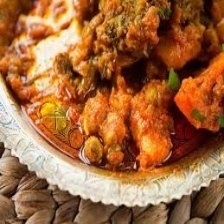sabzi: (0, 0, 224, 189)
